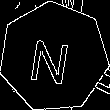N_N: (30, 29, 78, 85)
